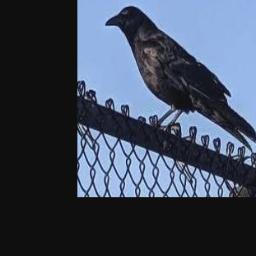Crow: (105, 5, 256, 153)
